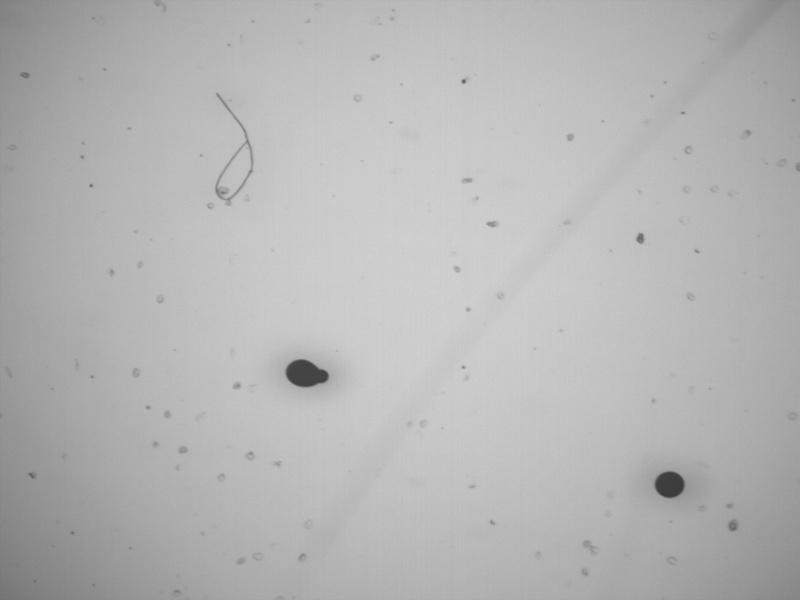bead: (286, 357, 321, 390), (653, 469, 687, 498), (317, 367, 330, 386)
fiber: (213, 89, 254, 204)
